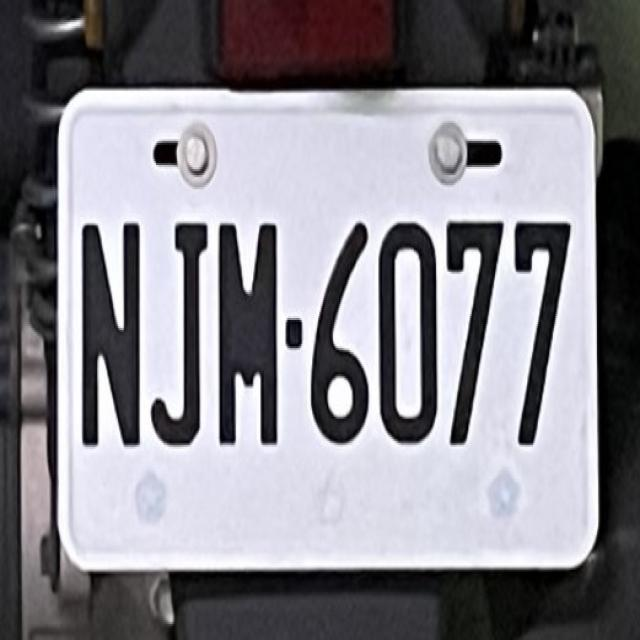license-plate: (56, 78, 602, 579)
